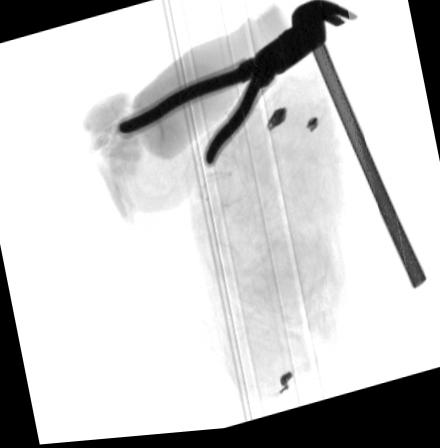Hammer: (277, 4, 426, 297)
Pliers: (117, 29, 321, 173)
